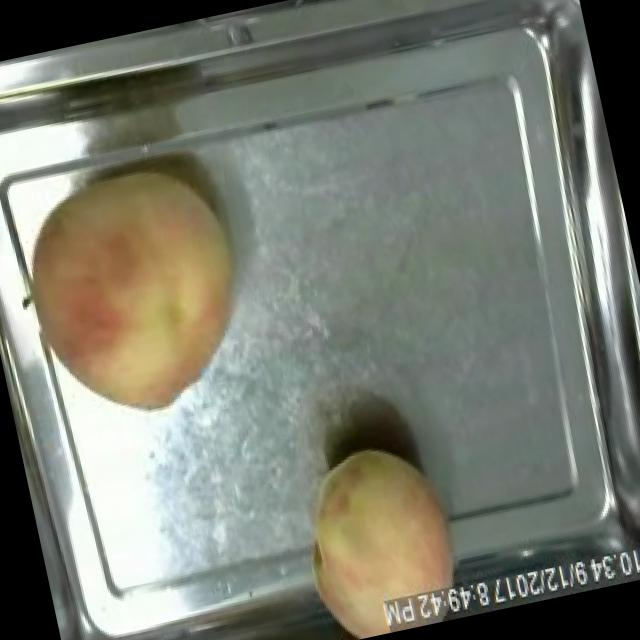Fruit: (0, 146, 274, 438), (276, 426, 480, 640)
